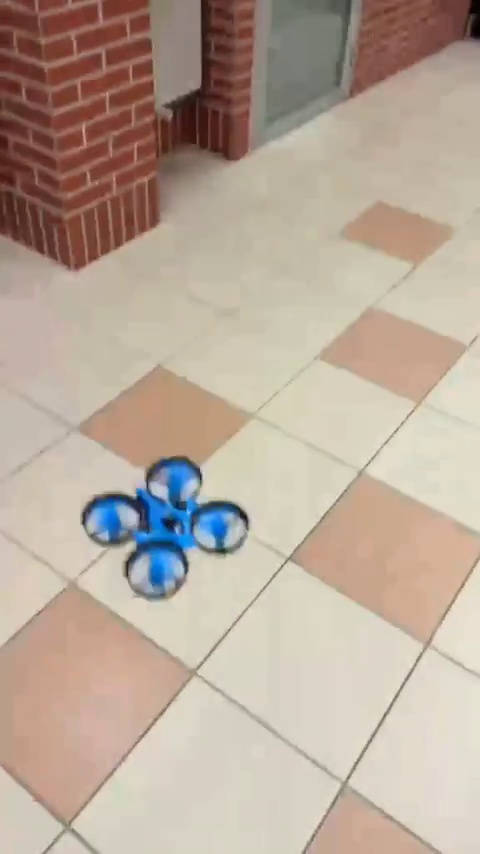drone: (80, 457, 249, 595)
